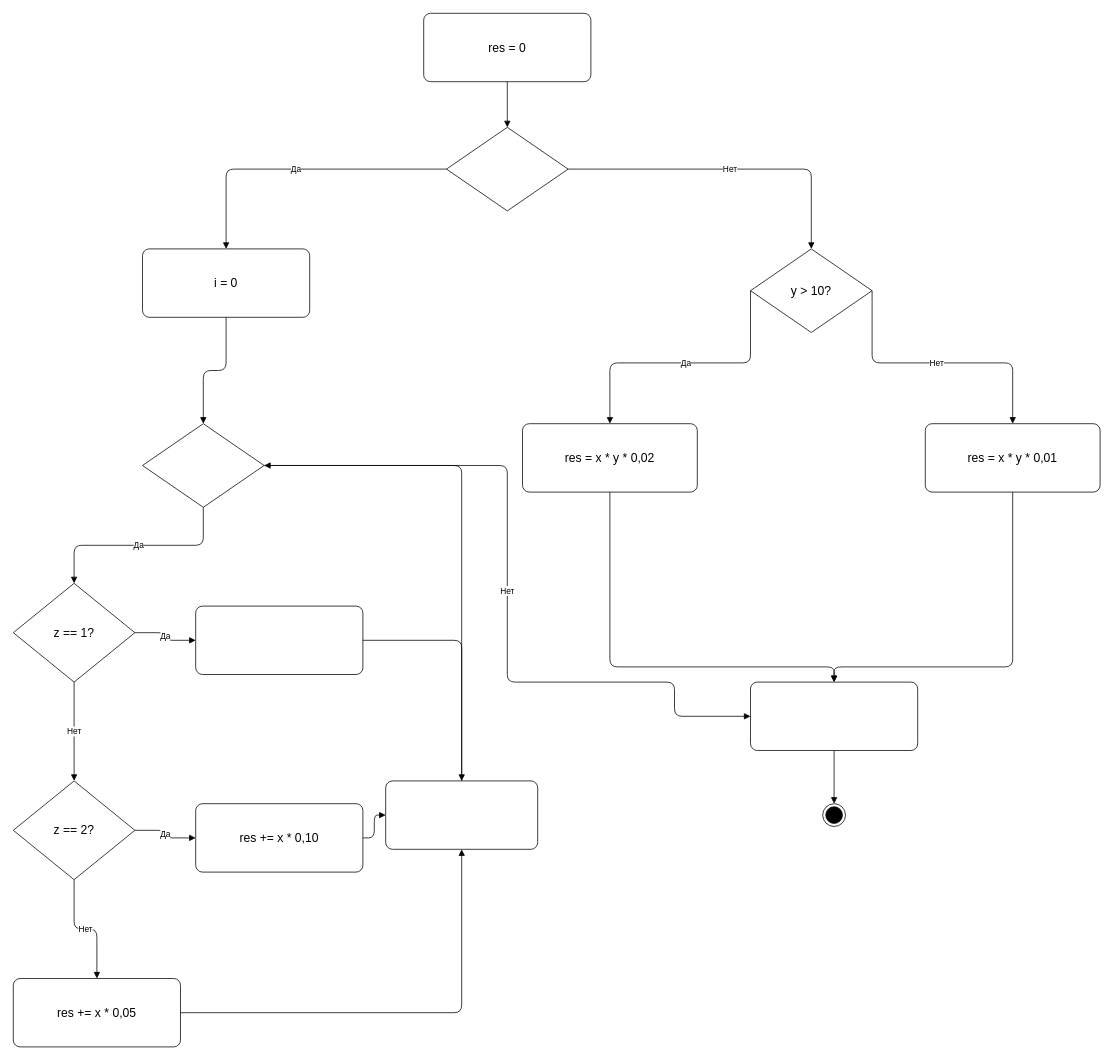
This 1113x1060 diagram has some shape labels left out. The shapes that lost their labels are listed below. From the top down, each one's centre as x and y in pixels, then its label:
At (x=507, y=169): "x > 1000?".
At (x=203, y=465): "i < y?".
At (x=279, y=639): "res += x * 0,15".
At (x=834, y=715): "Вернуть res".
At (x=461, y=814): "i = i + 1".
